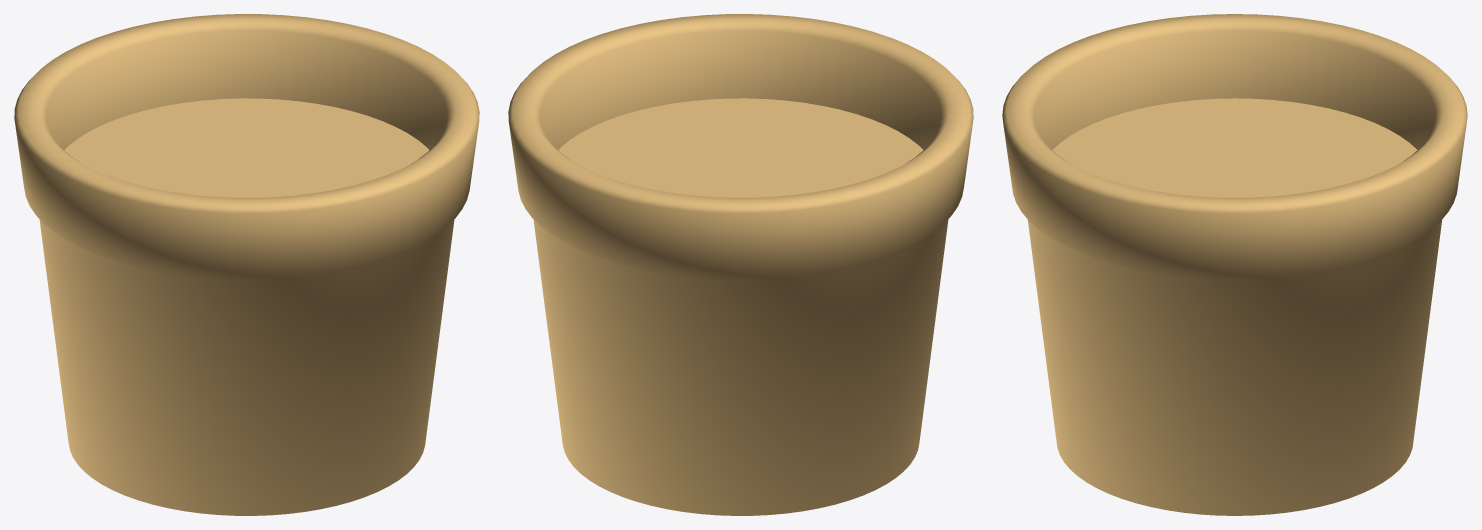
File: plant.fbx
3 renders of one model, left to right at view 1: azimuth 30°, elevation 25°; view 2: azimuth 150°, elevation 25°; view 3: azimuth 270°, elevation 25°, orthographic.
Parts seen in each view (by area): view 1: pot; view 2: pot; view 3: pot.
Part boxes in pixels (x1=…): pot: x1=14, y1=14, x2=479, y2=515; pot: x1=508, y1=14, x2=973, y2=515; pot: x1=1002, y1=14, x2=1467, y2=515.
Size of the model in its own units: 29.72 by 23.31 by 29.72.
